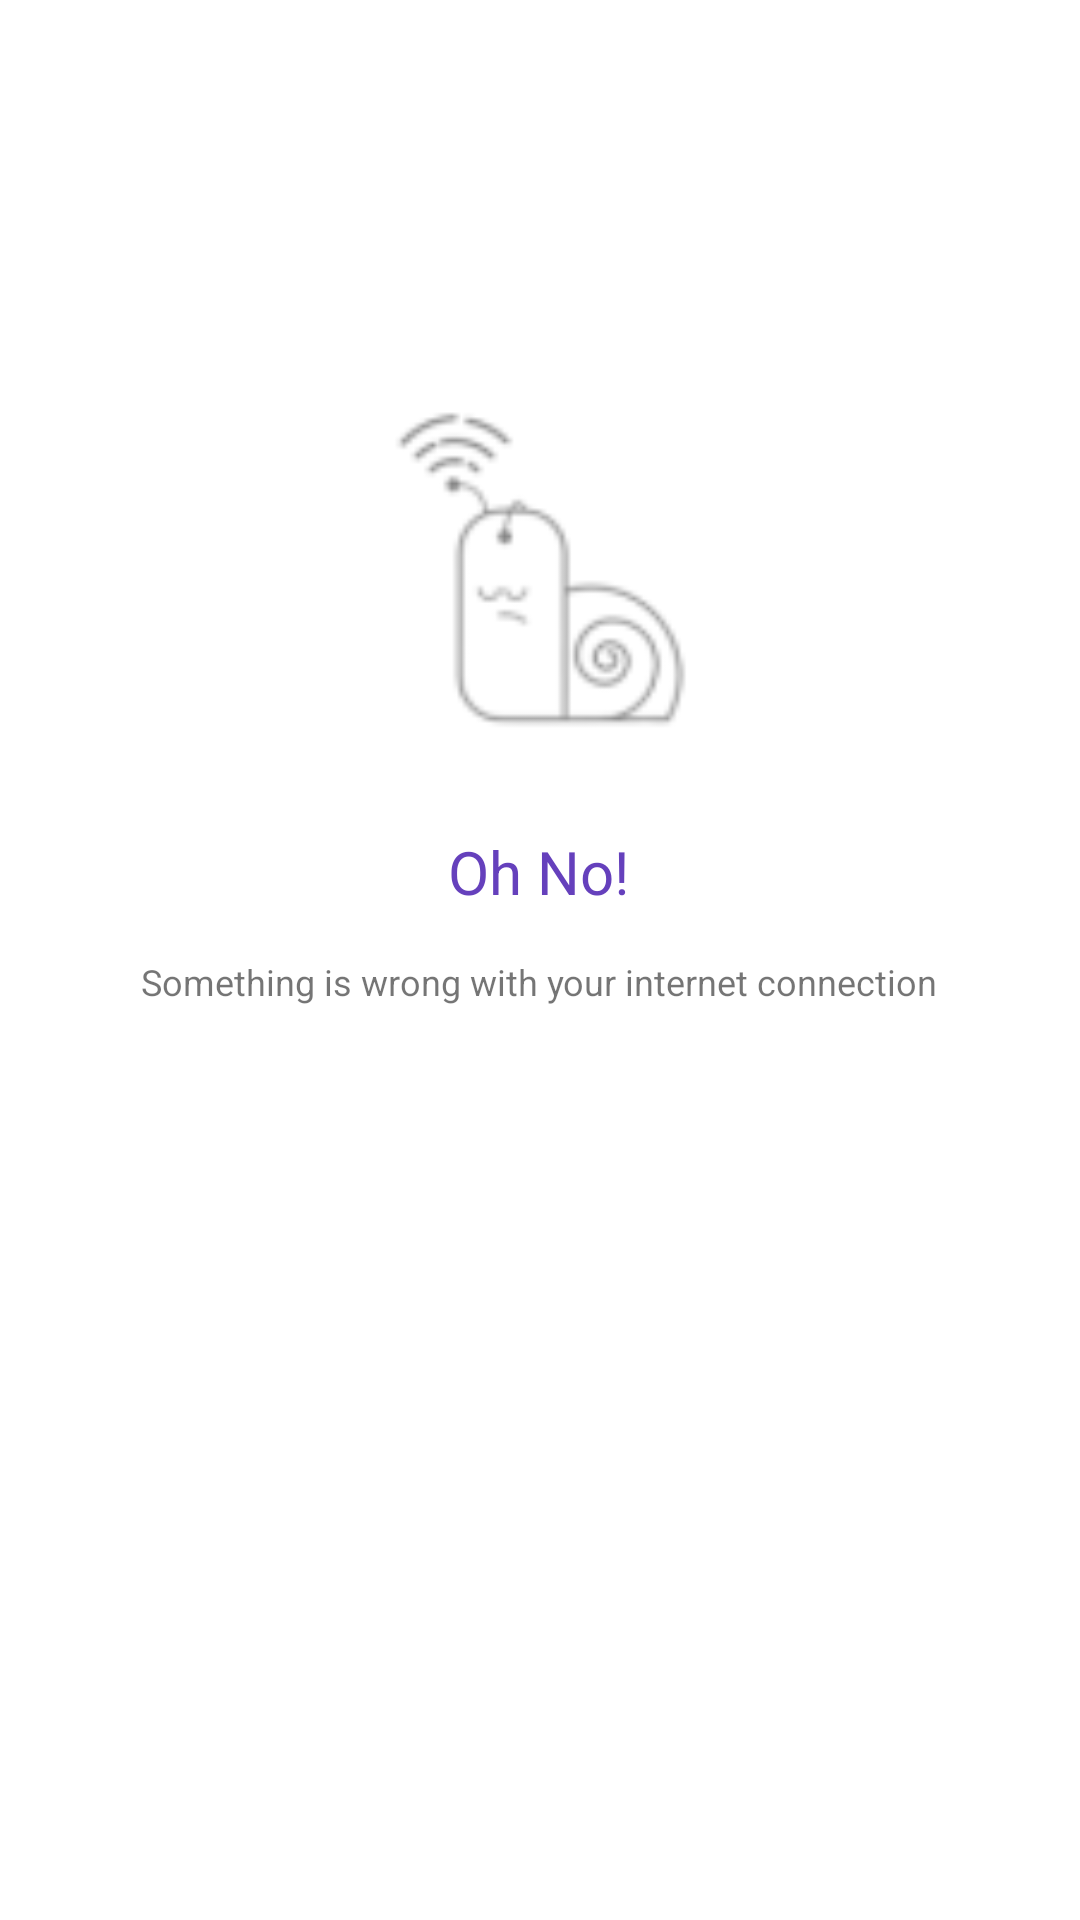

Named icons in this screenshot (1080*1920) and their bounding boxes, (x1, y1, x2, y2):
no internet: (400, 413, 685, 723)
